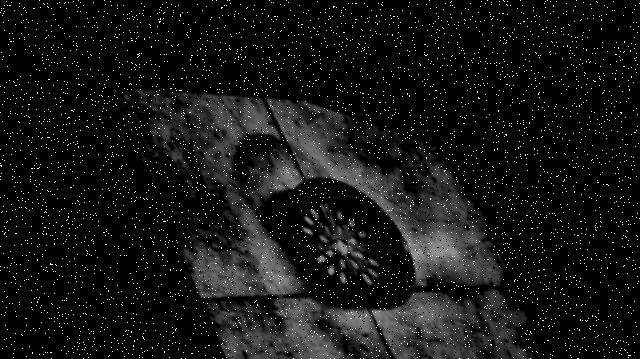pot: (288, 176, 412, 307)
